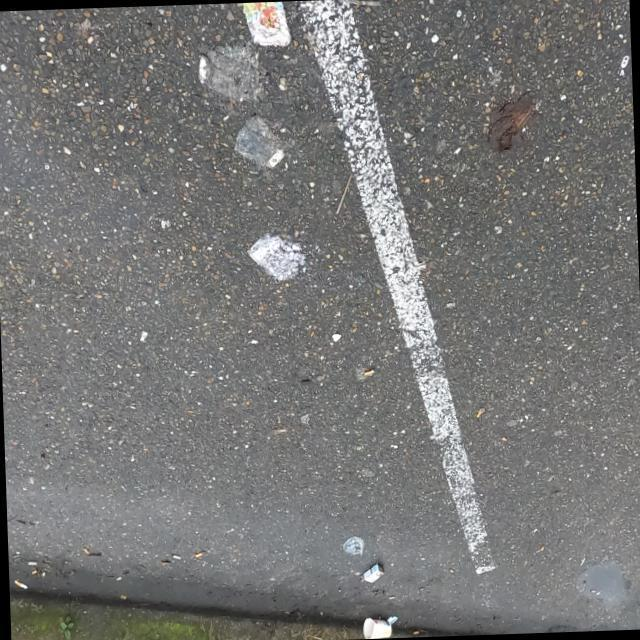Cup: (362, 617, 392, 640)
Paper: (245, 231, 308, 285), (342, 535, 365, 558), (362, 563, 386, 584)
Plastic: (241, 1, 292, 48), (386, 616, 398, 626)
